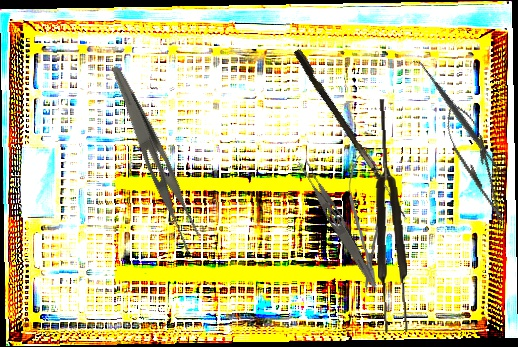Dressing Forceps: (91, 63, 214, 257), (294, 156, 384, 290)
Hook Surgical: (289, 48, 416, 220)
Micro Scissor: (345, 148, 390, 293)
Needle Holder: (435, 95, 517, 231)
Spatula Surgical: (410, 53, 509, 181)
Tissue Forceps: (368, 98, 411, 334)
